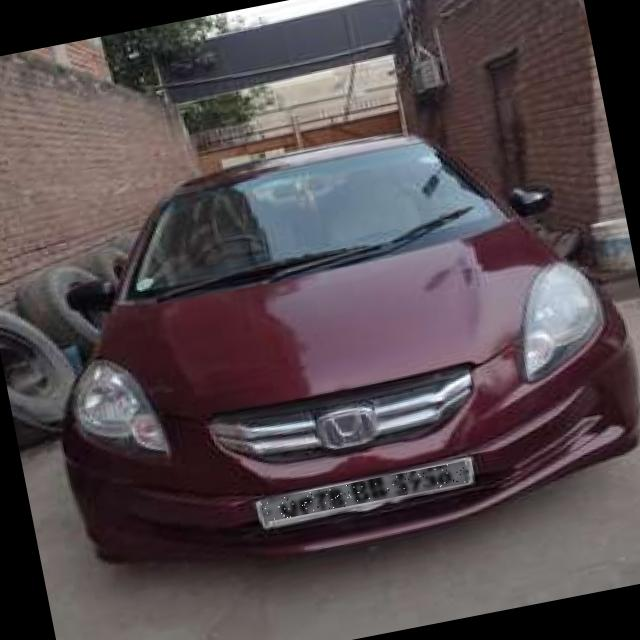Plate: (262, 463, 470, 524)
